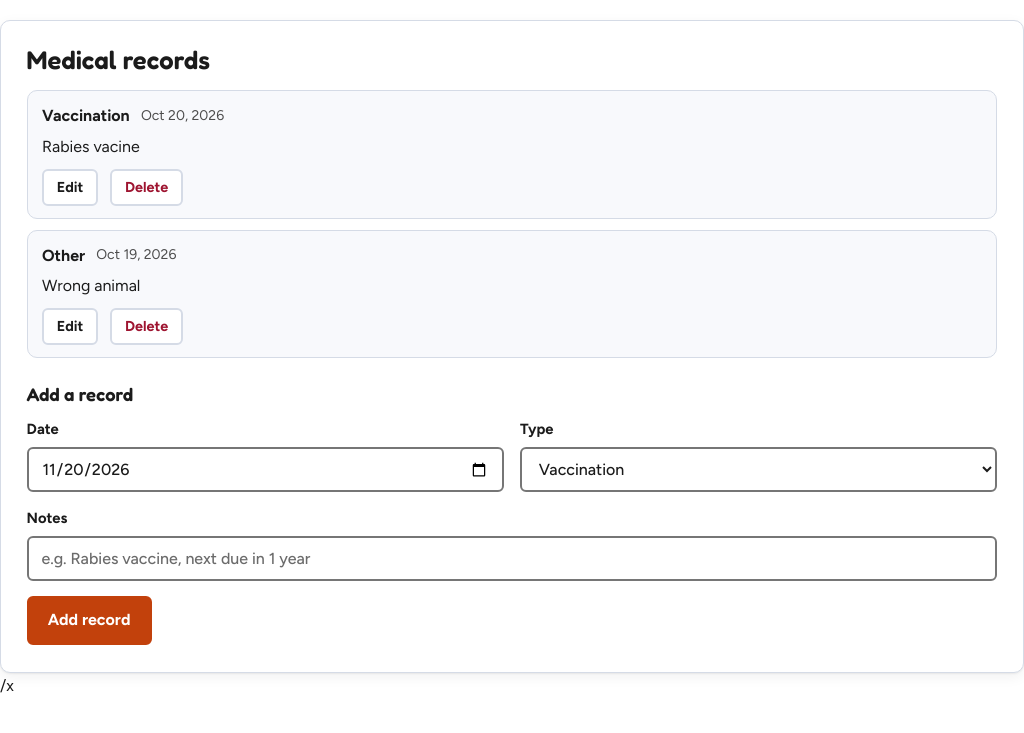
Staff panels (v2) › T-MED-UI-2: staff correct a record and delete one entered by mistake
Click the button with aria-label "Edit the Vaccination record": (70, 187) [42, 169, 98, 206]
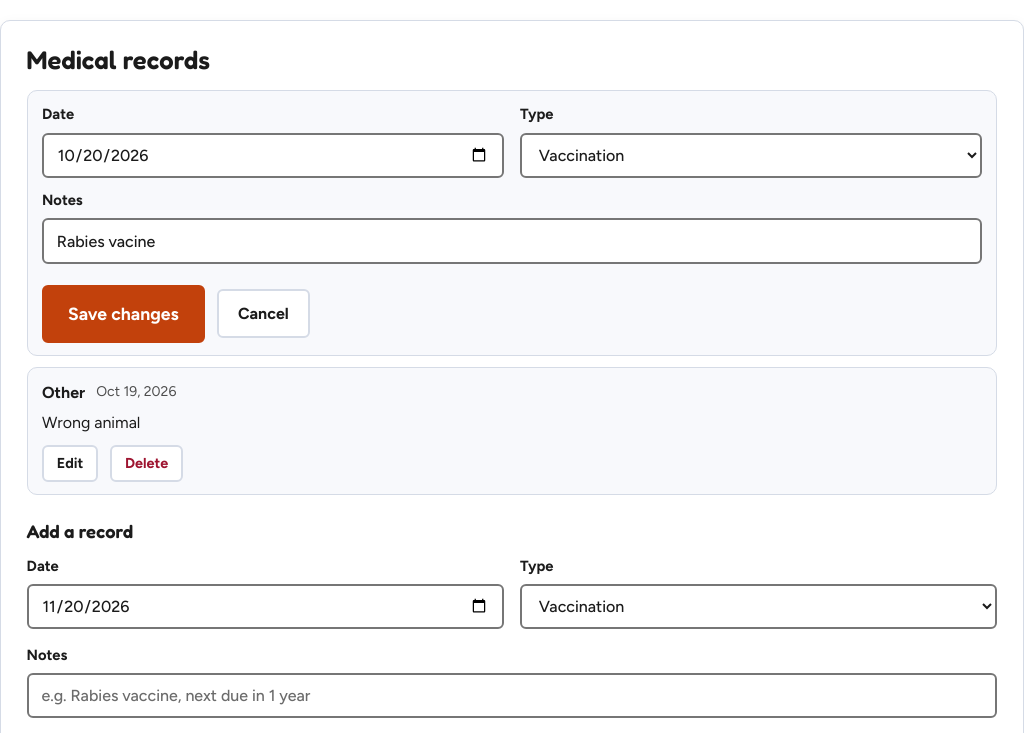
Replace the text in the 1st field labelled "Notes" with "Rabies vaccine": (512, 241) [42, 218, 982, 264]
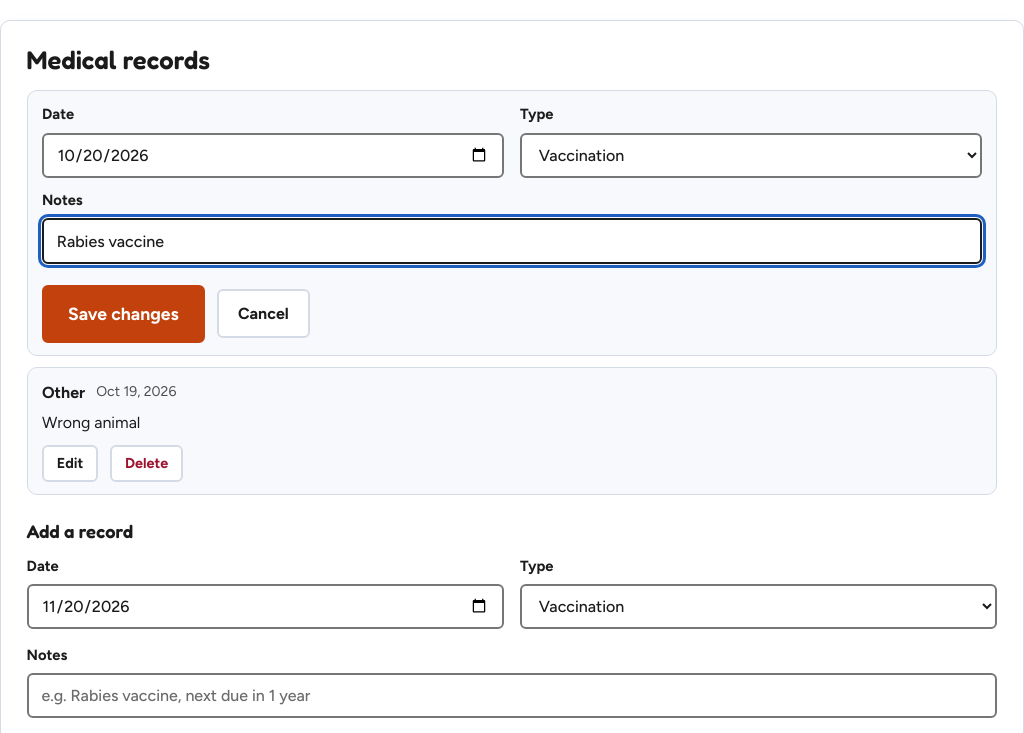
Click the button "Save changes": (123, 314) [42, 285, 205, 343]
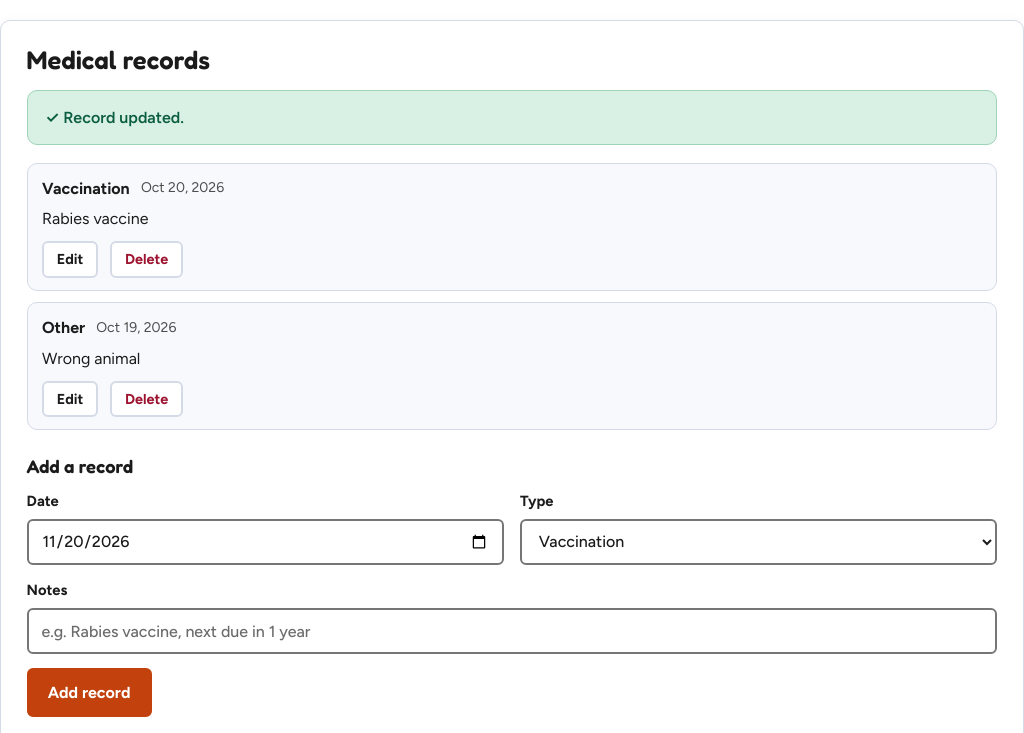
Now the text "Record updated." is shown, box [27, 90, 997, 145]
Now the text "Rabies vaccine" is shown, box [42, 209, 148, 228]
Click the button with aria-label "Delete the Other record": (147, 399) [110, 381, 183, 417]
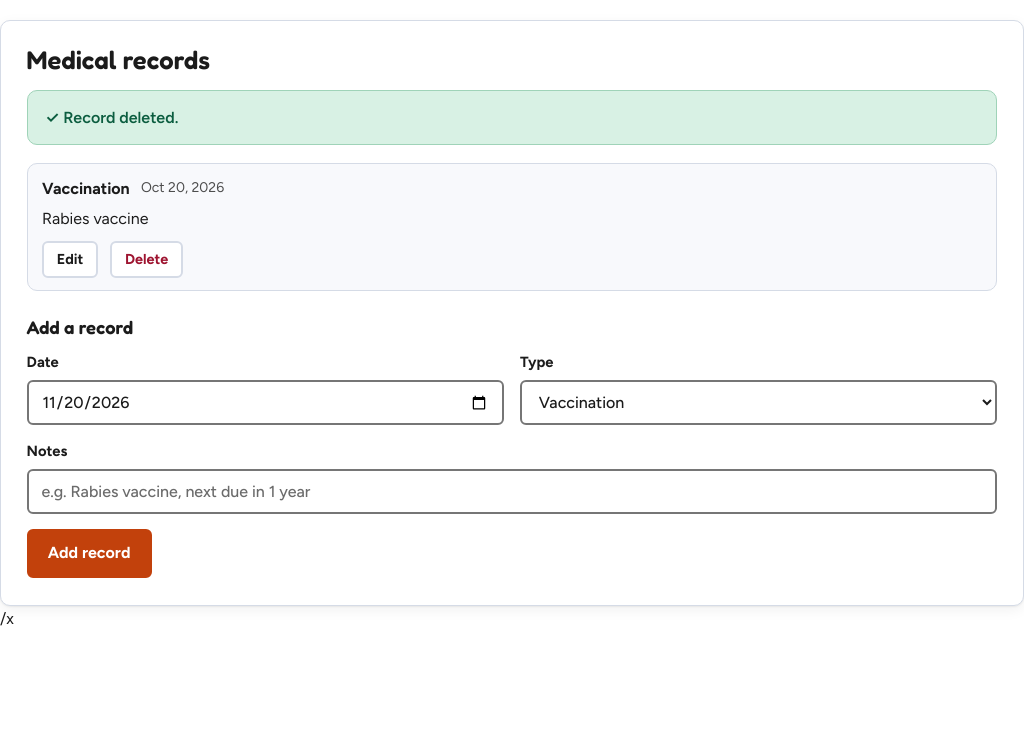
Now the text "Record deleted." is shown, box [27, 90, 997, 145]
Now the text "Wrong animal" is gone
